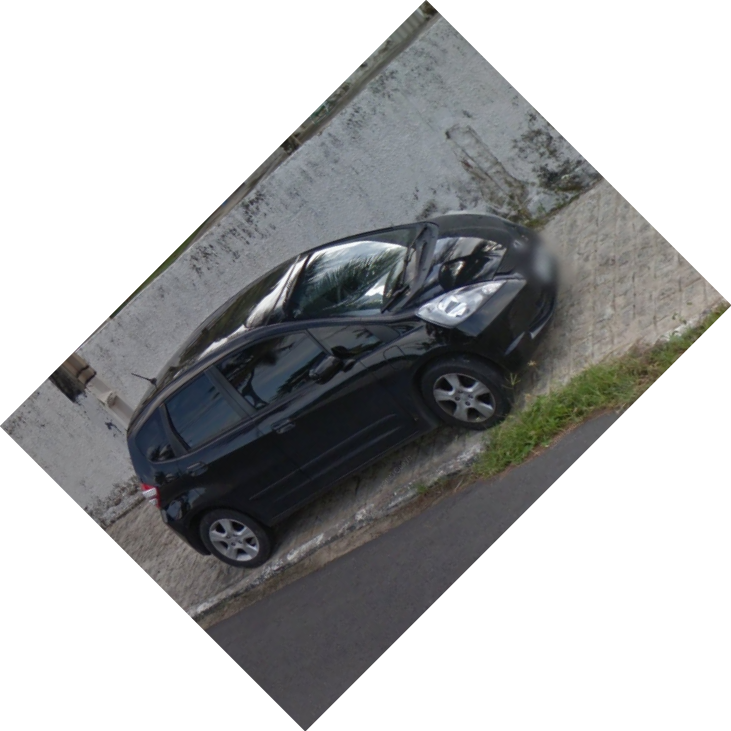car: (125, 211, 559, 571)
